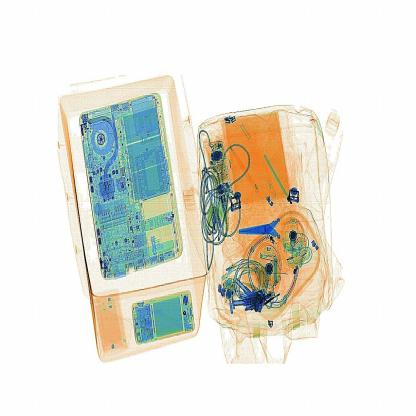gun: (231, 199, 302, 255)
